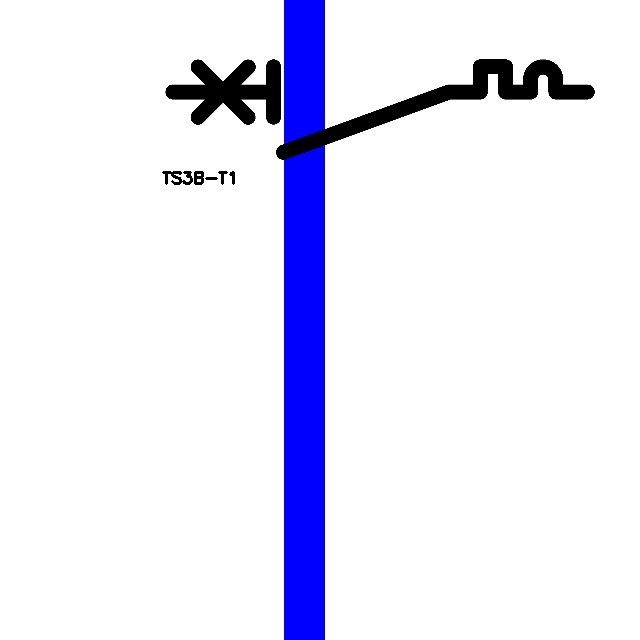interruptor_termomagnetico: (162, 56, 598, 162)
